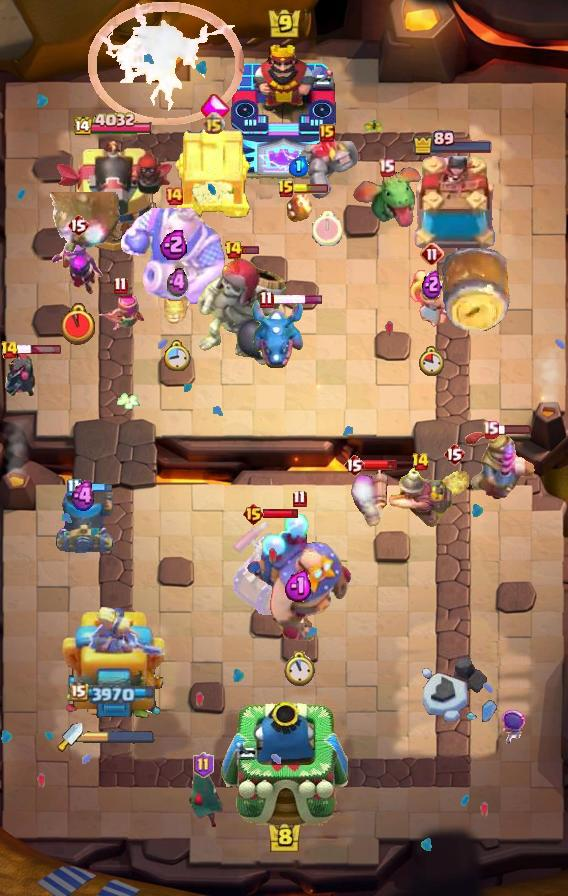bandit: (386, 461, 454, 529)
bar: (60, 607, 168, 731)
barbarian-evolution: (88, 3, 244, 126)
battle-ram: (0, 347, 38, 401)
bomb: (173, 125, 253, 219)
bomber: (284, 193, 314, 225)
cannon: (94, 293, 146, 333)
dirt: (440, 244, 512, 334)
electro-giant: (194, 255, 294, 367)
electro-spirit: (69, 480, 99, 512), (284, 570, 314, 602), (160, 228, 188, 260), (167, 267, 188, 299), (422, 268, 442, 299), (289, 155, 309, 177)
electro-wizard: (349, 165, 423, 231)
elixir: (61, 303, 95, 345), (285, 651, 315, 687), (312, 210, 342, 245), (163, 340, 191, 371), (419, 346, 445, 376)
emote: (10, 344, 62, 356), (272, 294, 325, 305), (496, 423, 532, 435), (362, 459, 398, 471), (264, 509, 301, 520), (78, 483, 114, 494), (293, 184, 329, 194), (241, 245, 260, 255)
giant-skeleton: (121, 202, 227, 304)
goblin: (499, 708, 530, 748)
goblin-giant: (409, 269, 455, 329)
graveyard: (248, 296, 306, 370)
ice-spirit-evolution: (161, 292, 193, 326), (437, 471, 471, 499)
king-tower: (220, 702, 348, 827), (230, 41, 338, 181)
king-tower-bar: (83, 730, 155, 744)
little-prince: (245, 511, 353, 645)
musketeer: (54, 489, 114, 553)
queen-tower: (407, 156, 499, 256)
ram-rider: (463, 430, 537, 500)
rascal-girl: (50, 237, 106, 301)
selected: (412, 130, 494, 156), (73, 112, 154, 138), (70, 682, 158, 704)
skeleton-king-bar: (232, 519, 302, 619)
skeleton-king-skill: (200, 93, 232, 127)
tesla: (181, 771, 225, 831)
text: (420, 242, 444, 266), (193, 752, 215, 778), (203, 112, 226, 136), (242, 502, 265, 526), (67, 213, 89, 237), (443, 442, 465, 466), (343, 453, 365, 477), (164, 186, 184, 206), (225, 240, 244, 260), (1, 340, 20, 360), (411, 452, 430, 472), (277, 179, 295, 199), (481, 421, 499, 440), (377, 159, 394, 177), (319, 124, 335, 142), (113, 276, 128, 295), (67, 479, 82, 497), (259, 290, 273, 309), (293, 489, 307, 508)
tombstone: (345, 467, 389, 529)
tower-bar: (53, 138, 175, 256)
valkyrie-evolution: (295, 140, 359, 200)
x-bow: (45, 193, 126, 255)
